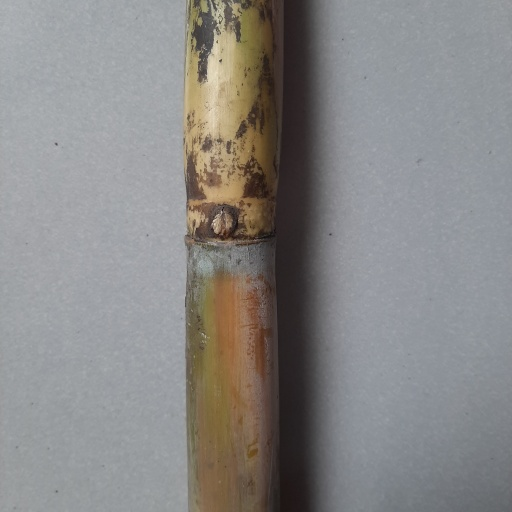Bud: (209, 208, 233, 241)
